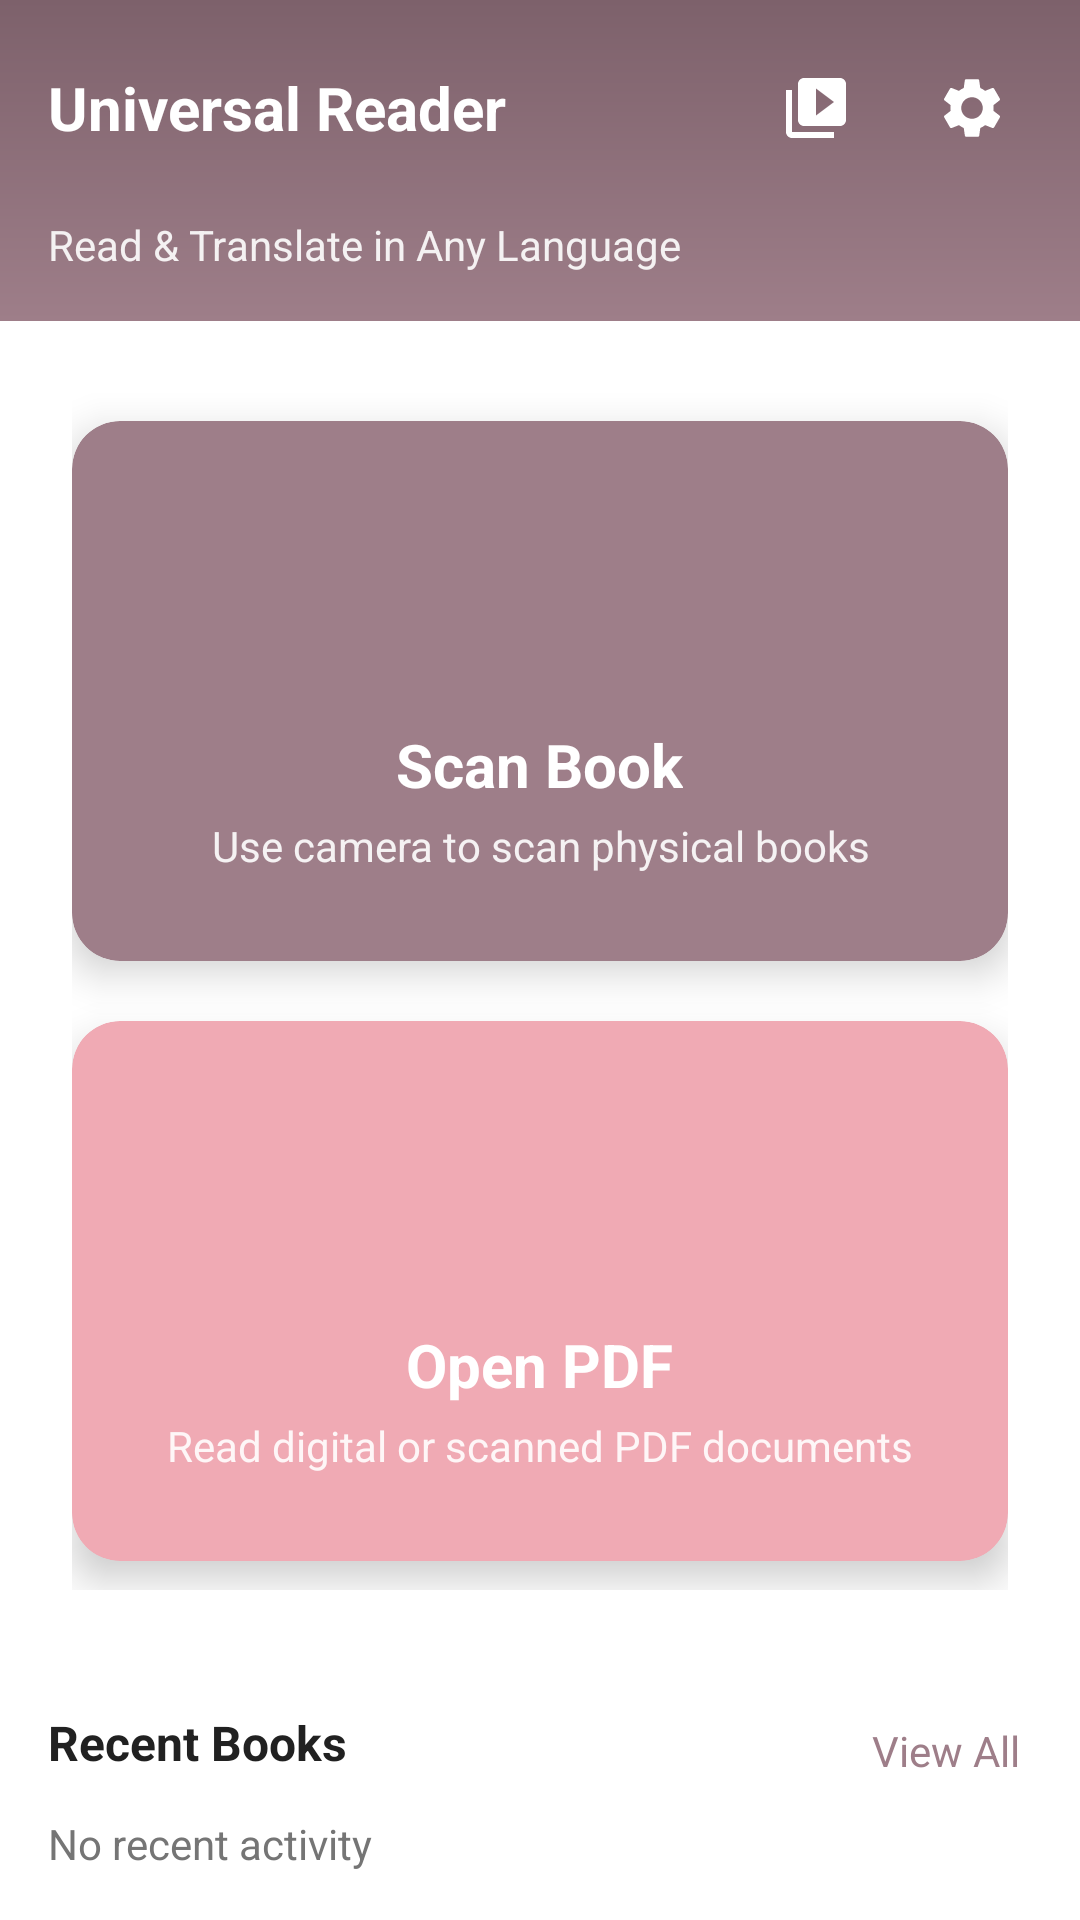

Point at icon controls on the screen. Image size 1080x1920, points as point (x, y).
Library: point (816, 108)
Settings: point (972, 108)
